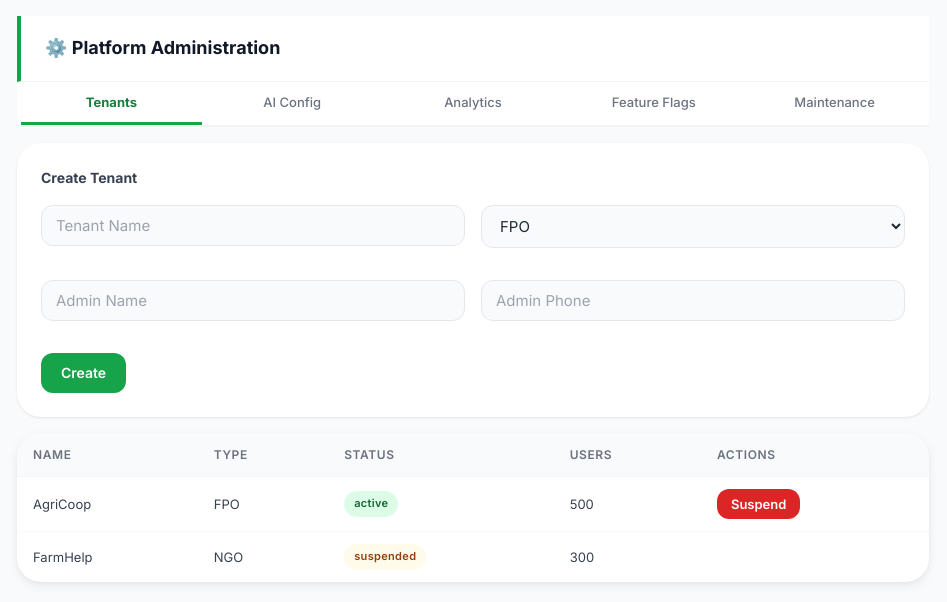
Test: PlatformAdminPage › displays feature flags with toggle
The image size is (947, 602).
Click the button with test id "tab-flags". click: (654, 103)
box: x1=563 y1=82 x2=744 y2=125
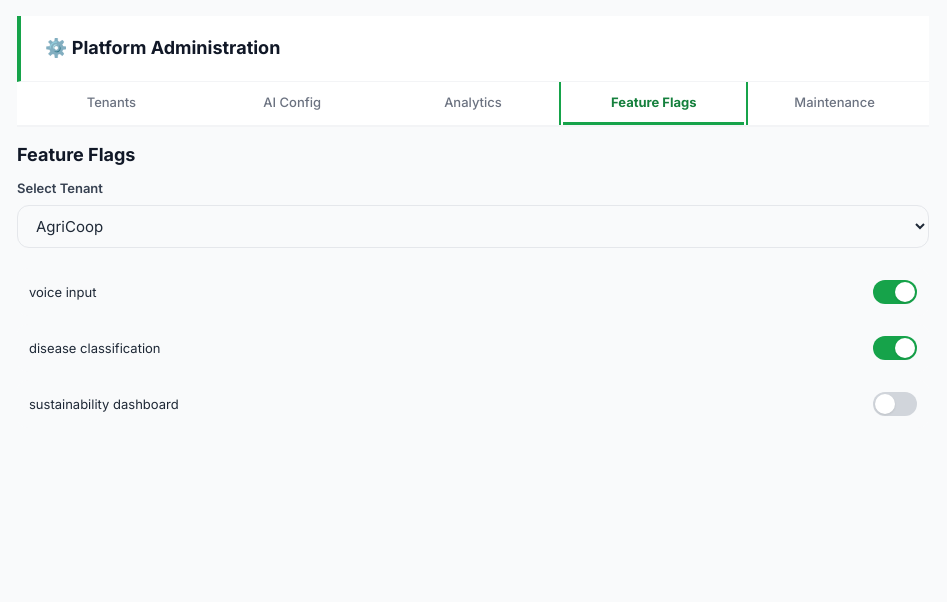
Expected: the element with test id "flag-voice_input" is shown, x1=17 y1=268 x2=929 y2=316
